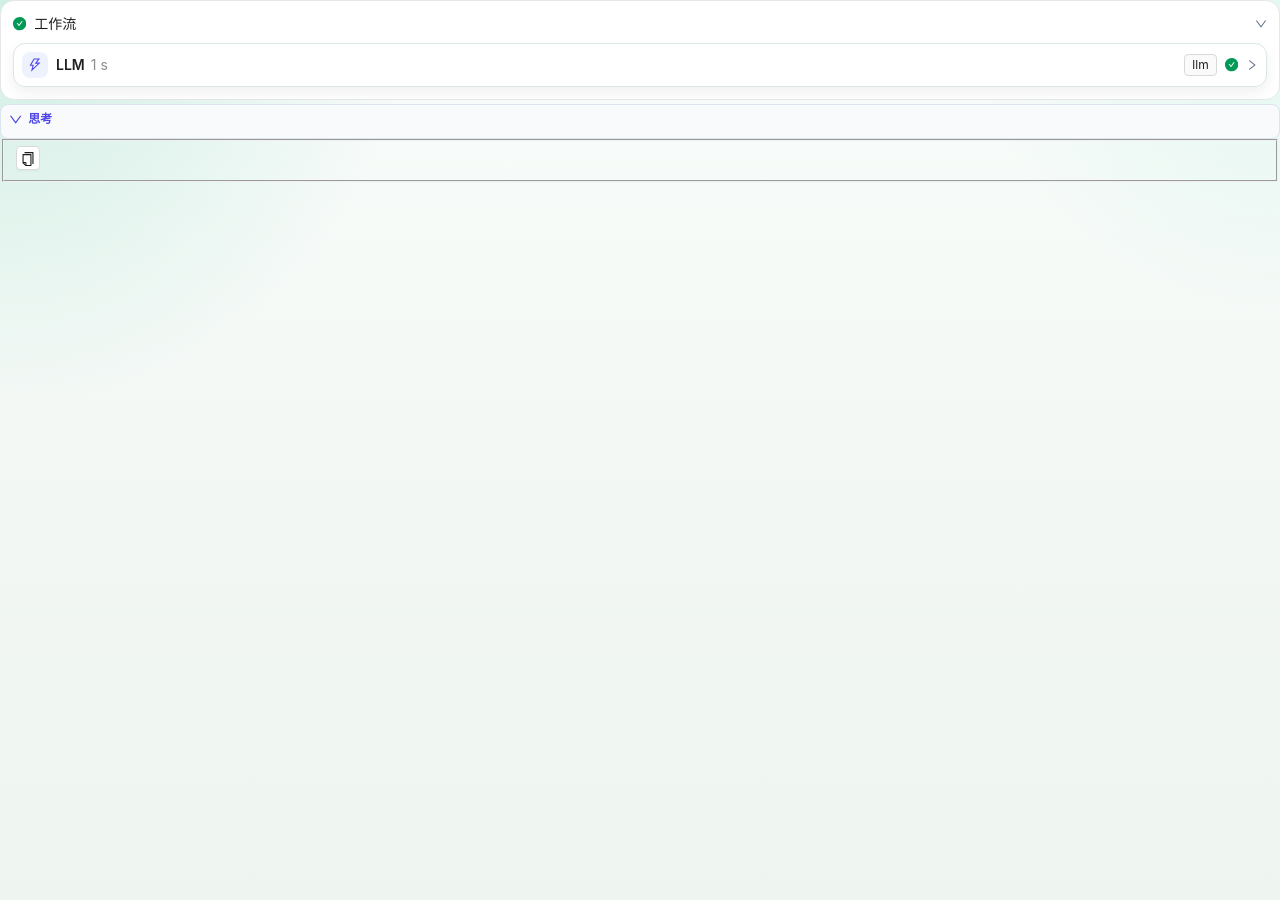
DebugAssistantMessage › loads truncated trace artifact values on explicit action
This screenshot has width=1280, height=900.
Click the button "LLM 1 s llm" at (1201, 65), box [14,44,1266,86]
(page scrolled)
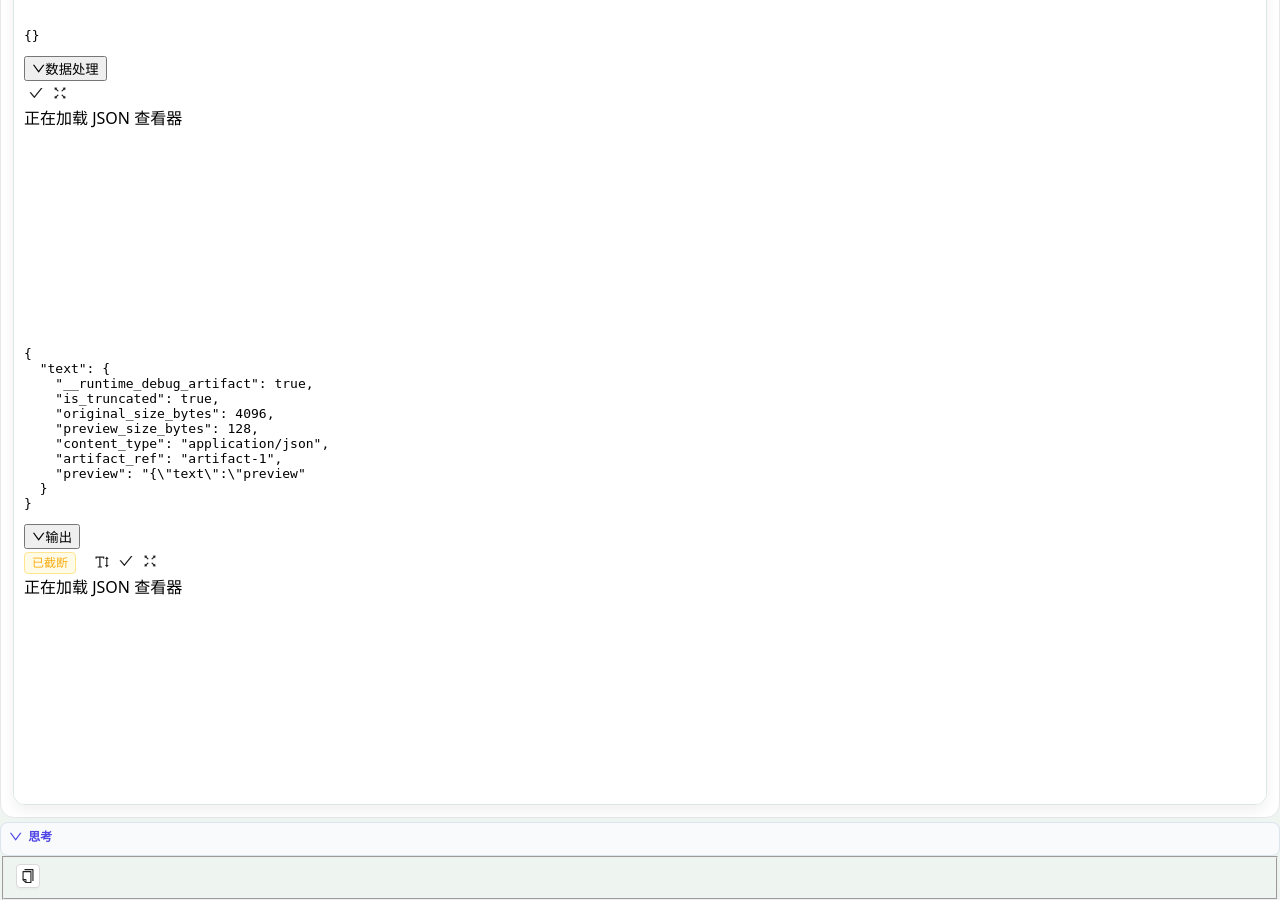
Click the button named "加载完整值" at (102, 562), box [90,550,114,574]
(page scrolled)
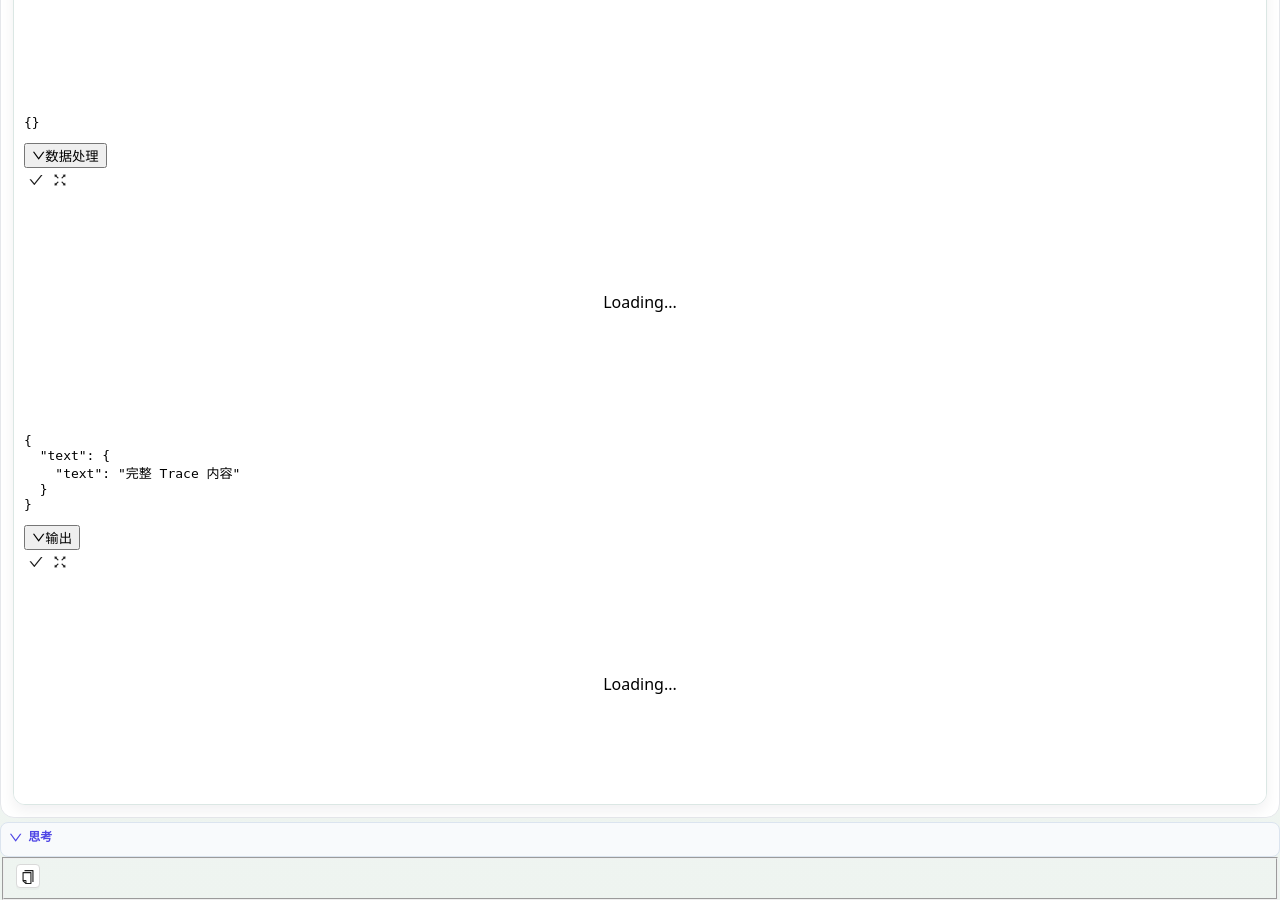
Now the text named "输出 JSON" shows "完整 Trace 内容", box [24,433,240,512]
